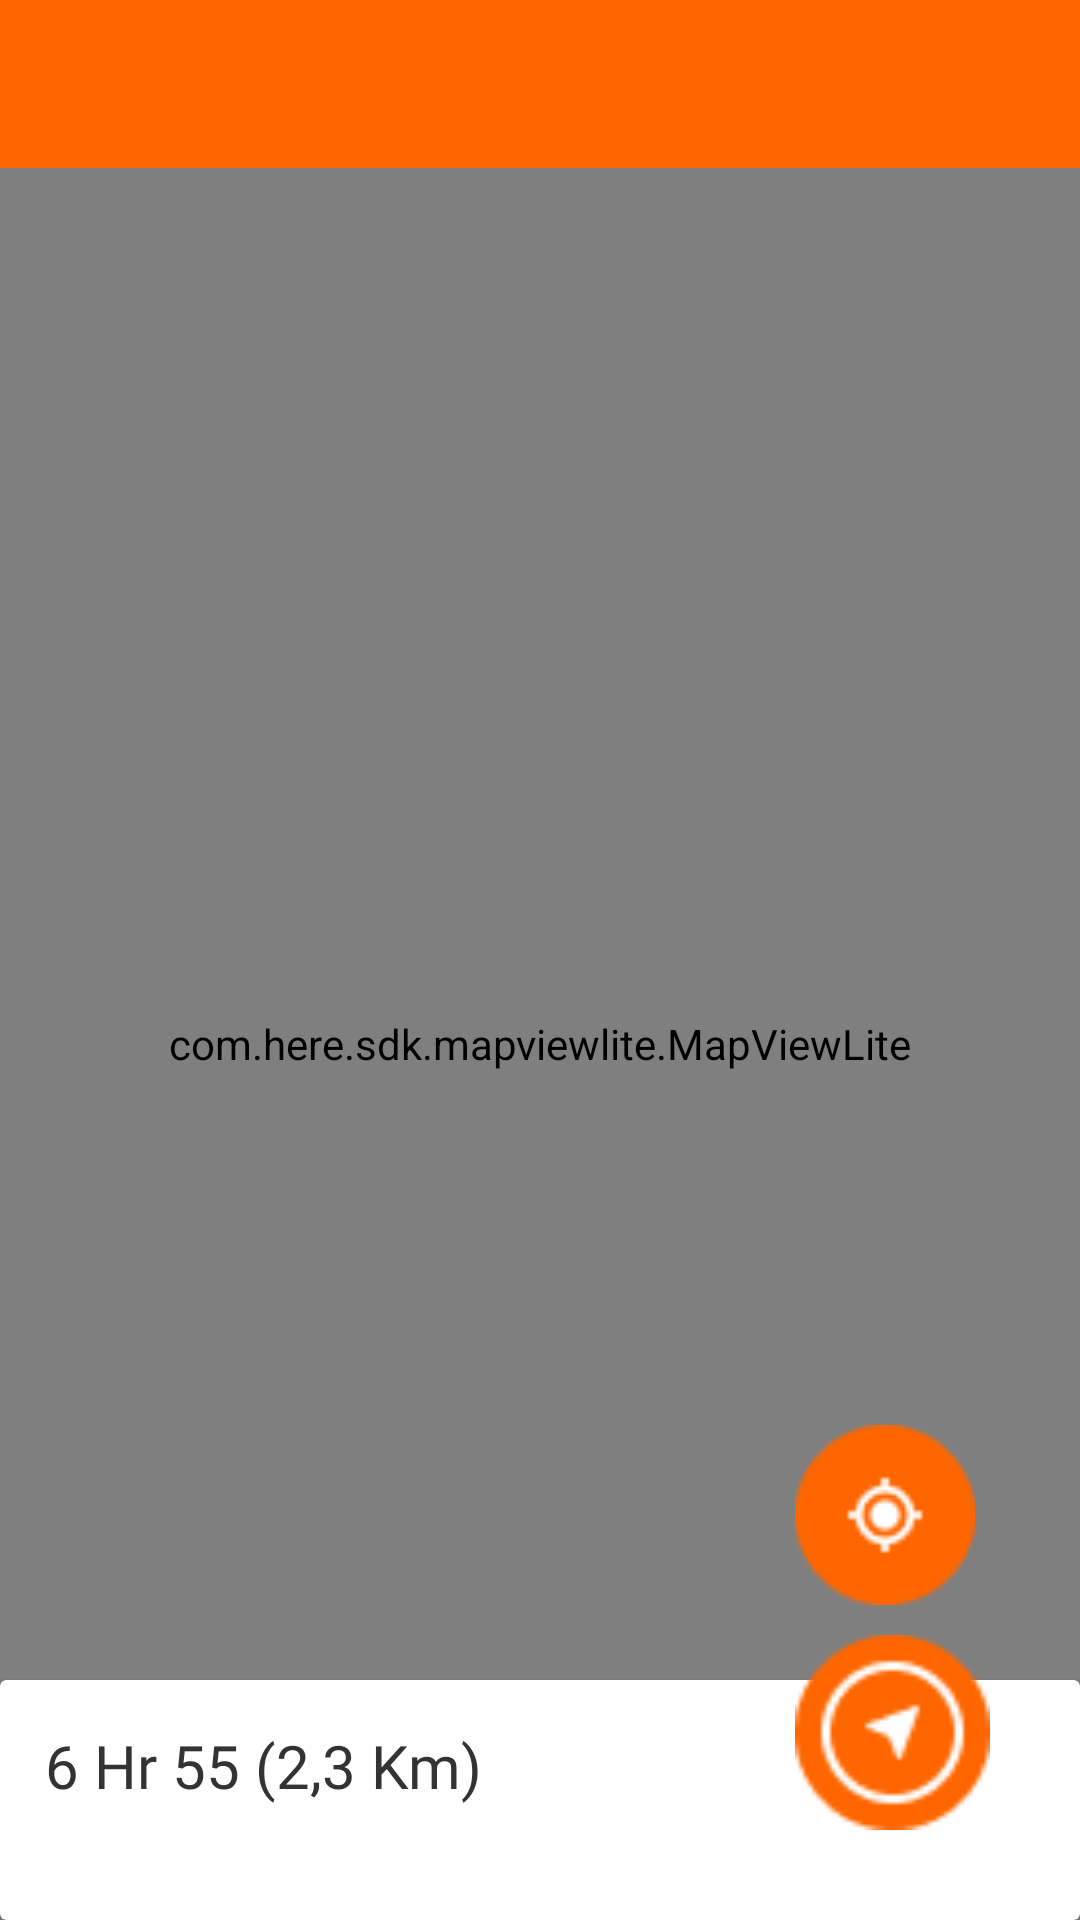

Icons on this 1080x1920 Android screen, each with the point to tap as (x=x, y=y):
location: (x=885, y=1515)
